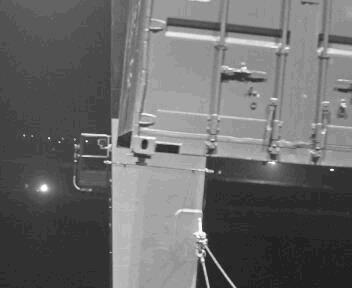twist_lock_1: (127, 150, 153, 176)
